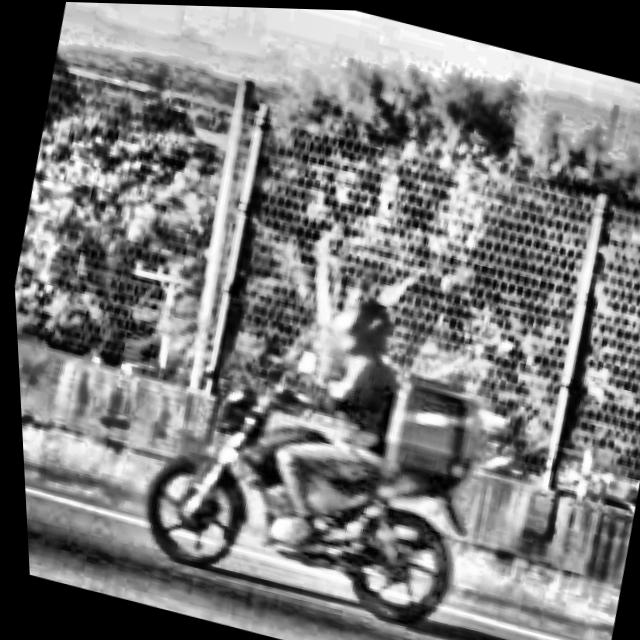motorcycle: (106, 316, 523, 640)
